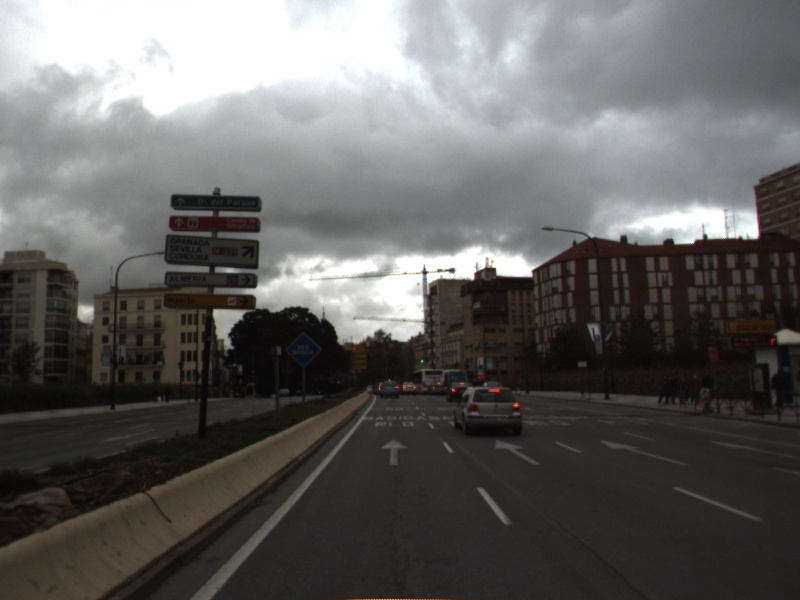STRAIGHT: (597, 437, 692, 468), (708, 438, 798, 460), (491, 437, 544, 468), (378, 437, 412, 468)
